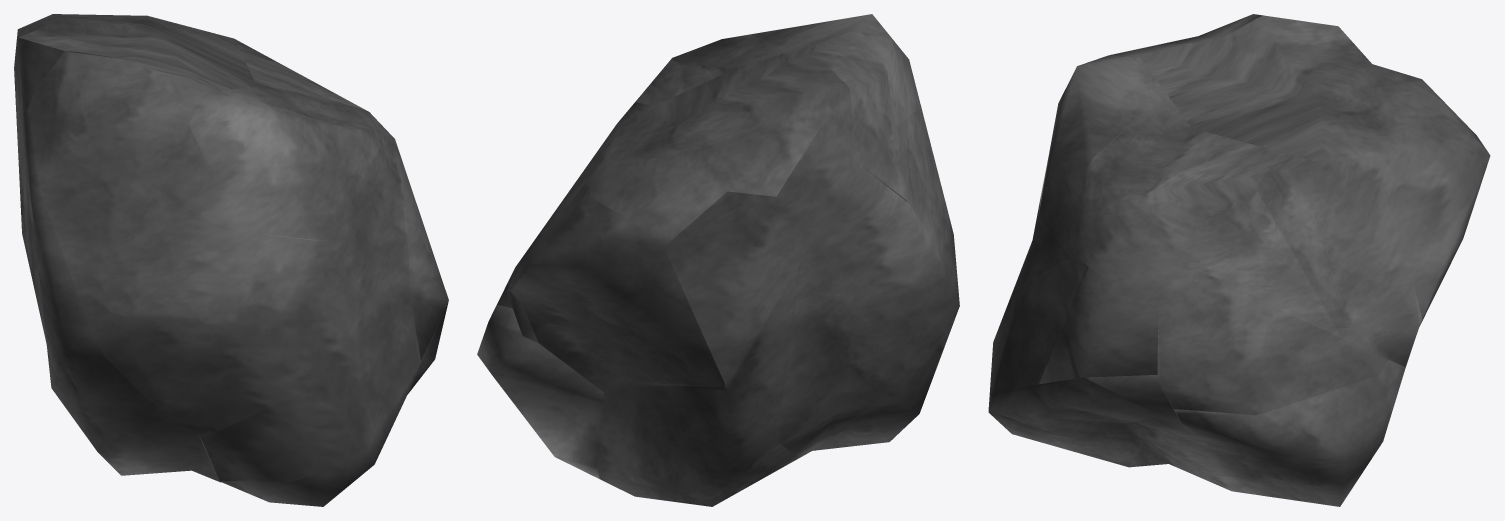
Rendered from stonepieces 1.FBX.
The picture shows the model from 3 angles, left to right: view 1: azimuth 30°, elevation 25°; view 2: azimuth 150°, elevation 25°; view 3: azimuth 270°, elevation 25°; orthographic projection. The views are drawn at different scales.
Parts seen in each view (by area): view 1: Sphere002_Part_2_Part_1, Sphere002_Part_3_Part_1, Sphere002_Part_9_Part_2, Sphere002_Part_7_Part_2, Sphere002_Part_3_Part_2, Sphere002_Part_2_Part_2, Sphere002_Part_4_Part_2, Sphere002_Part_4_Part_1, Sphere002_Part_1_Part_1, Sphere002_Part_8_Part_1, Sphere002_Part_9_Part_1, Sphere002_Part_5_Part_1 (+1 smaller); view 2: Sphere002_Part_1_Part_2, Sphere002_Part_7_Part_2, Sphere002_Part_1_Part_1, Sphere002_Part_7_Part_1, Sphere002_Part_6_Part_1, Sphere002_Part_4_Part_2, Sphere002_Part_3_Part_2, Sphere002_Part_5_Part_1, Sphere002_Part_2_Part_2, Sphere002_Part_3_Part_1, Sphere002_Part_4_Part_1, Sphere002_Part_2_Part_1; view 3: Sphere002_Part_5_Part_1, Sphere002_Part_4_Part_1, Sphere002_Part_6_Part_2, Sphere002_Part_4_Part_2, Sphere002_Part_6_Part_1, Sphere002_Part_1_Part_1, Sphere002_Part_3_Part_1, Sphere002_Part_9_Part_1, Sphere002_Part_1_Part_2, Sphere002_Part_8_Part_1, Sphere002_Part_5_Part_2, Sphere002_Part_8_Part_2 (+3 smaller).
Part boxes in pixels (bbox=[...]): Sphere002_Part_2_Part_1: bbox=[74, 174, 386, 434]; Sphere002_Part_3_Part_1: bbox=[171, 88, 390, 242]; Sphere002_Part_9_Part_2: bbox=[198, 209, 420, 482]; Sphere002_Part_7_Part_2: bbox=[22, 109, 220, 482]; Sphere002_Part_3_Part_2: bbox=[37, 51, 221, 198]; Sphere002_Part_2_Part_2: bbox=[29, 88, 135, 283]; Sphere002_Part_4_Part_2: bbox=[36, 31, 312, 93]; Sphere002_Part_4_Part_1: bbox=[239, 81, 414, 215]; Sphere002_Part_1_Part_1: bbox=[14, 14, 186, 162]; Sphere002_Part_8_Part_1: bbox=[221, 303, 448, 506]; Sphere002_Part_9_Part_1: bbox=[212, 199, 448, 481]; Sphere002_Part_5_Part_1: bbox=[149, 26, 277, 62]; Sphere002_Part_1_Part_2: bbox=[510, 187, 796, 392]; Sphere002_Part_7_Part_2: bbox=[779, 165, 959, 457]; Sphere002_Part_1_Part_1: bbox=[582, 111, 860, 268]; Sphere002_Part_7_Part_1: bbox=[597, 262, 800, 506]; Sphere002_Part_6_Part_1: bbox=[477, 304, 603, 478]; Sphere002_Part_4_Part_2: bbox=[635, 49, 853, 144]; Sphere002_Part_3_Part_2: bbox=[795, 31, 915, 143]; Sphere002_Part_5_Part_1: bbox=[507, 102, 705, 343]; Sphere002_Part_2_Part_2: bbox=[853, 119, 938, 248]; Sphere002_Part_3_Part_1: bbox=[750, 14, 921, 110]; Sphere002_Part_4_Part_1: bbox=[649, 34, 788, 85]; Sphere002_Part_2_Part_1: bbox=[906, 107, 957, 276]; Sphere002_Part_5_Part_1: bbox=[1256, 95, 1422, 367]; Sphere002_Part_4_Part_1: bbox=[1076, 97, 1222, 302]; Sphere002_Part_6_Part_2: bbox=[1157, 276, 1388, 415]; Sphere002_Part_4_Part_2: bbox=[1158, 15, 1318, 246]; Sphere002_Part_6_Part_1: bbox=[1174, 359, 1405, 506]; Sphere002_Part_1_Part_1: bbox=[1300, 20, 1470, 200]; Sphere002_Part_3_Part_1: bbox=[1038, 55, 1167, 257]; Sphere002_Part_9_Part_1: bbox=[1039, 266, 1158, 384]; Sphere002_Part_1_Part_2: bbox=[1387, 125, 1490, 321]; Sphere002_Part_8_Part_1: bbox=[988, 377, 1150, 467]; Sphere002_Part_5_Part_2: bbox=[1206, 190, 1341, 337]; Sphere002_Part_8_Part_2: bbox=[1088, 375, 1258, 495].
Size of the model in its own units: 142 by 147 by 168.
1 material, 1 textured.
